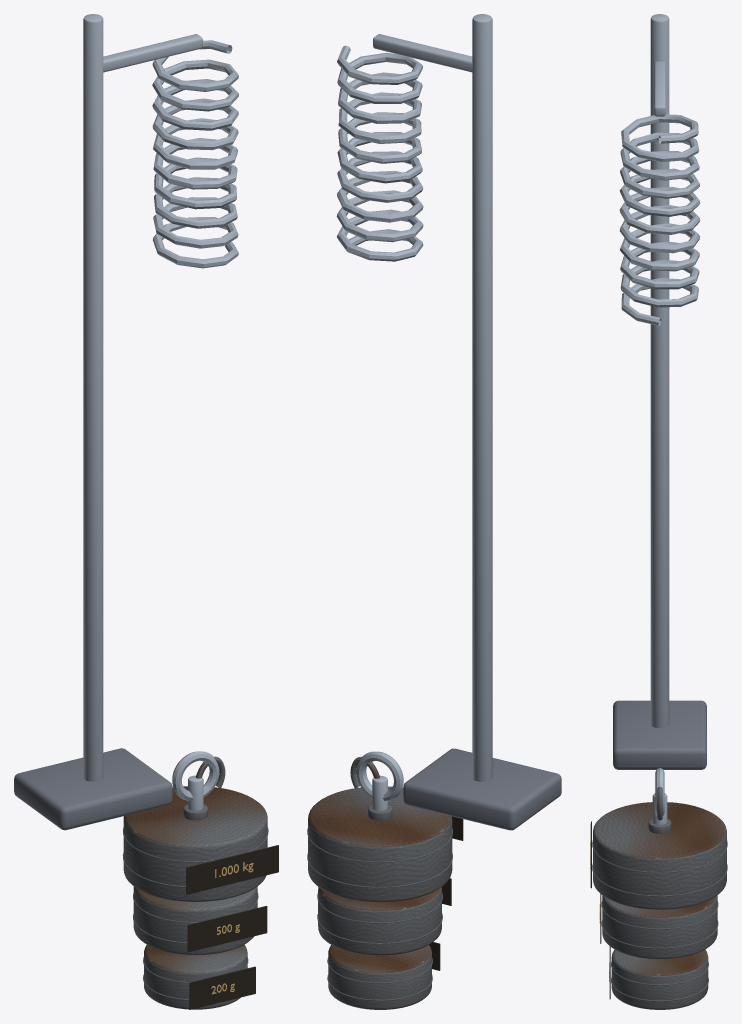
Rendered from hooke_apparatus.glb.
3 renders of one model, left to right at view 1: azimuth 30°, elevation 25°; view 2: azimuth 150°, elevation 25°; view 3: azimuth 270°, elevation 25°, orthographic. The views are drawn at different scales.
Visible parts, largest first — view 1: Stand_Rod, Spring, Weight_1kg_Body, Stand_Base, Weight_500g_Body, Weight_200g_Body, GEO_weight_A_plaque, GEO_weight_B_plaque, GEO_weight_C_plaque, Stand_Arm, Hanger_Hook; view 2: Stand_Rod, Weight_1kg_Body, Spring, Stand_Base, Weight_500g_Body, Weight_200g_Body, Stand_Arm, Hanger_Hook; view 3: Weight_1kg_Body, Stand_Rod, Spring, Stand_Base, Weight_500g_Body, Weight_200g_Body, Stand_Arm, Hanger_Hook.
Part boxes in pixels (box(x1,y1,x2,y2)): Stand_Rod: box(83, 14, 103, 781); Spring: box(152, 40, 238, 268); Weight_1kg_Body: box(123, 786, 267, 901); Stand_Base: box(14, 748, 172, 830); Weight_500g_Body: box(133, 886, 257, 955); Weight_200g_Body: box(144, 944, 247, 1009); GEO_weight_A_plaque: box(186, 845, 278, 894); GEO_weight_B_plaque: box(187, 906, 267, 952); GEO_weight_C_plaque: box(189, 966, 255, 1009); Stand_Arm: box(103, 34, 202, 72); Hanger_Hook: box(172, 751, 219, 800); Stand_Rod: box(472, 14, 492, 781); Weight_1kg_Body: box(308, 786, 452, 902); Spring: box(336, 45, 423, 261); Stand_Base: box(403, 748, 561, 830); Weight_500g_Body: box(318, 887, 441, 955); Weight_200g_Body: box(328, 945, 431, 1009); Stand_Arm: box(373, 34, 472, 72); Hanger_Hook: box(356, 751, 403, 800); Weight_1kg_Body: box(593, 802, 726, 909); Stand_Rod: box(650, 14, 669, 728); Spring: box(619, 114, 700, 325); Stand_Base: box(613, 700, 706, 769); Weight_500g_Body: box(602, 895, 717, 959); Weight_200g_Body: box(611, 949, 708, 1009); Stand_Arm: box(654, 61, 665, 116); Hanger_Hook: box(655, 768, 664, 815).
Size of the model in its own units: 1.78 by 7.63 by 1.03.
Materials: 6 (1 with a texture image).
